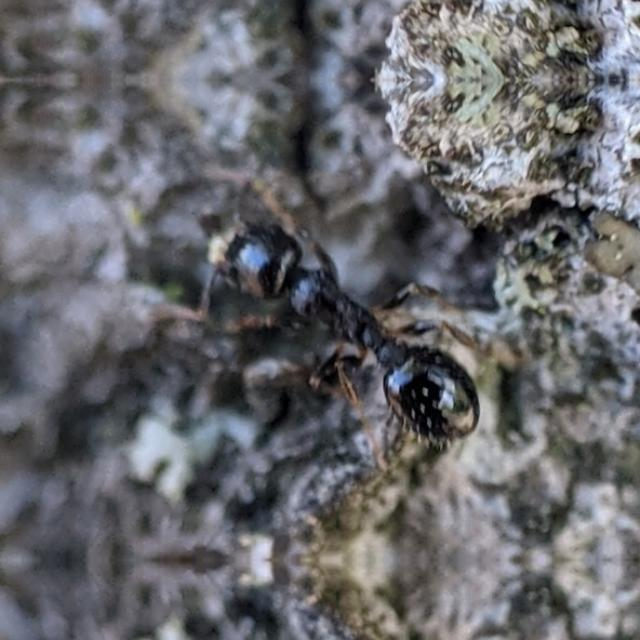Temnothorax: (165, 173, 560, 474)
